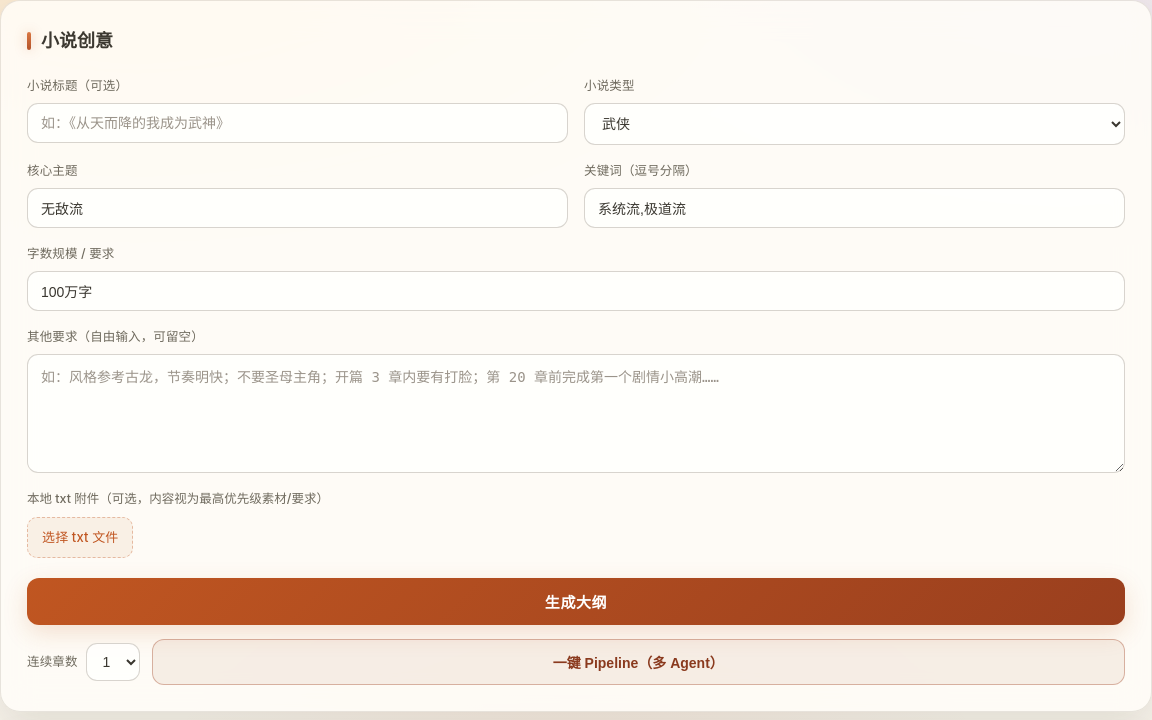
it: NovelGeneratorView › disables save for error results
Click the button with class "generate-btn". click: (576,601)
box: [27,578,1125,625]
(page scrolled)
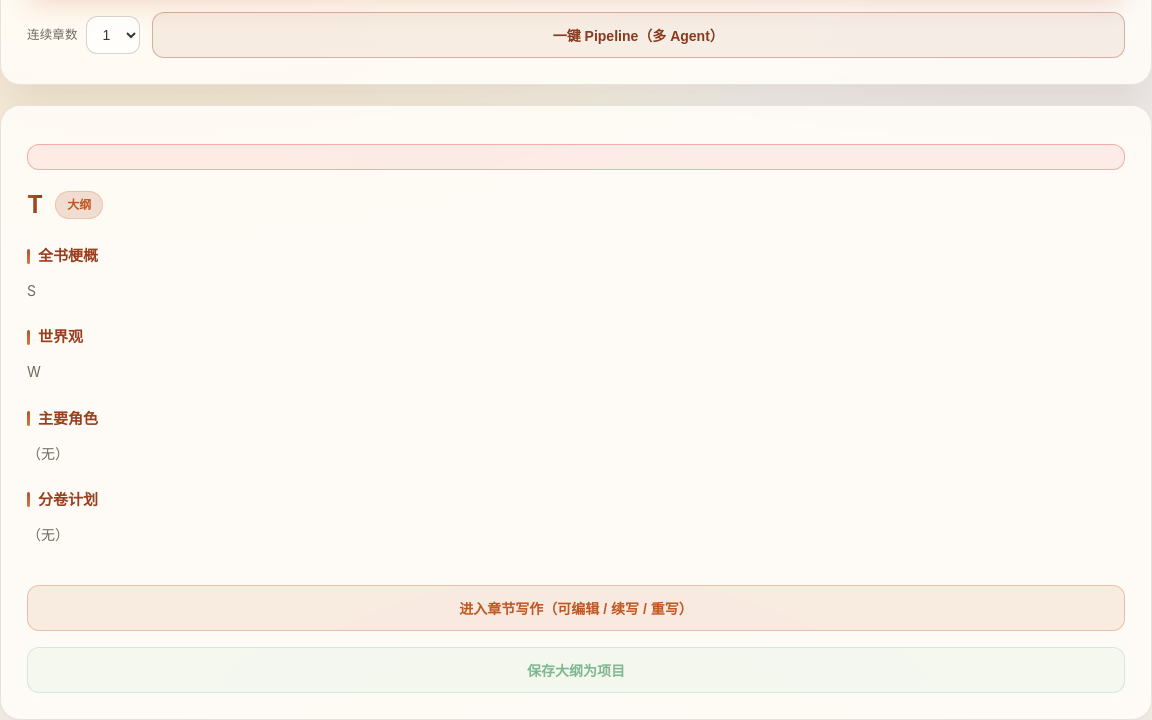
Check: the button with class "save-btn" is disabled, box [27,647,1125,693]
